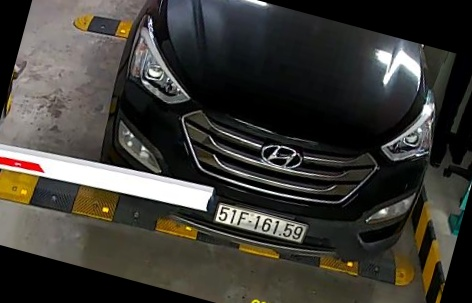plate: (210, 198, 308, 249)
